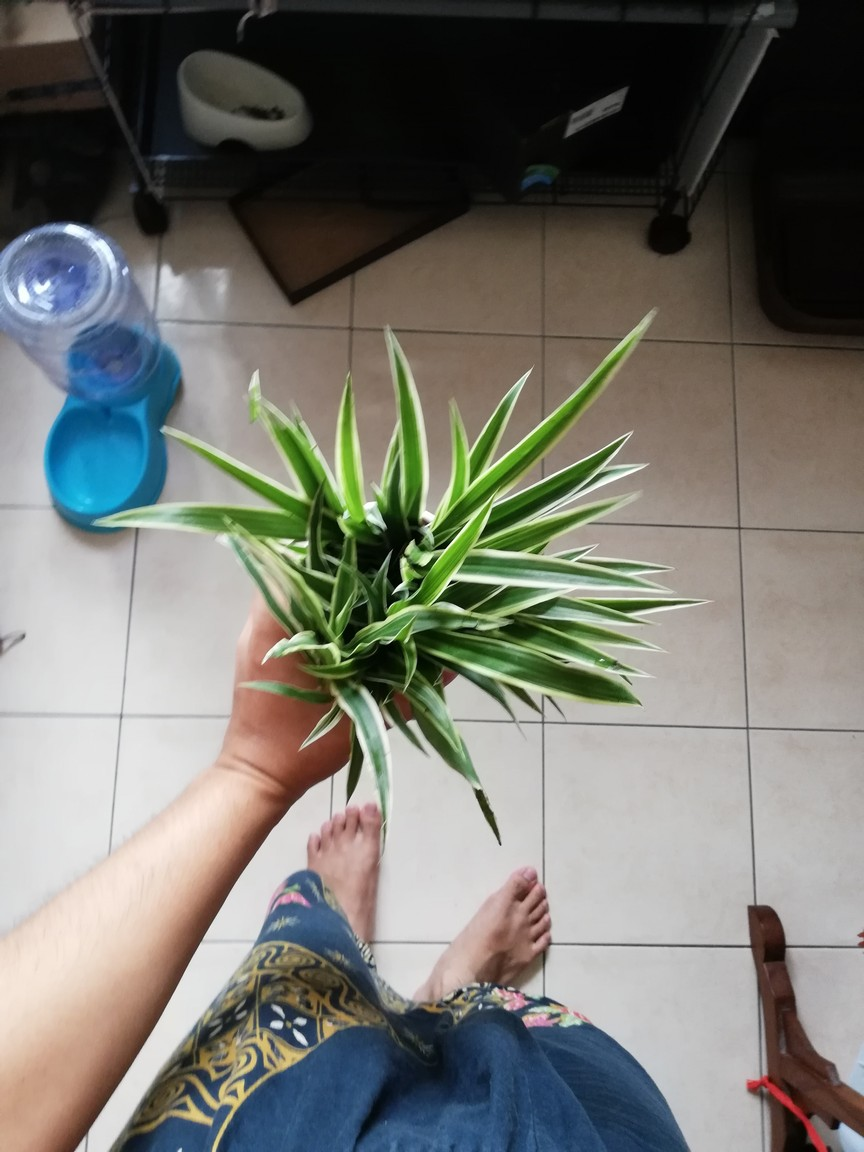daun: (551, 306, 657, 429), (157, 425, 266, 494), (448, 483, 505, 566), (547, 486, 646, 531), (383, 318, 422, 418), (465, 779, 514, 857), (90, 505, 209, 534), (367, 758, 396, 870), (486, 362, 536, 426), (332, 368, 362, 474), (590, 566, 681, 595), (584, 642, 653, 680), (292, 703, 344, 753), (587, 596, 727, 614), (381, 703, 423, 762), (593, 625, 670, 657), (229, 678, 314, 706), (446, 392, 472, 483), (578, 427, 637, 464), (583, 456, 653, 486), (257, 629, 307, 670), (490, 692, 526, 745), (596, 601, 663, 627), (506, 684, 547, 725), (603, 558, 684, 576), (553, 537, 603, 565), (346, 736, 364, 810), (295, 662, 359, 681), (285, 394, 312, 436), (401, 642, 422, 695), (540, 688, 568, 727), (391, 581, 425, 600)
